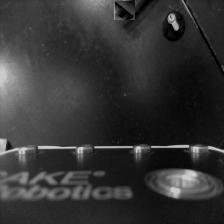Door Handle: (115, 0, 135, 21)
Lock: (162, 10, 186, 42)
